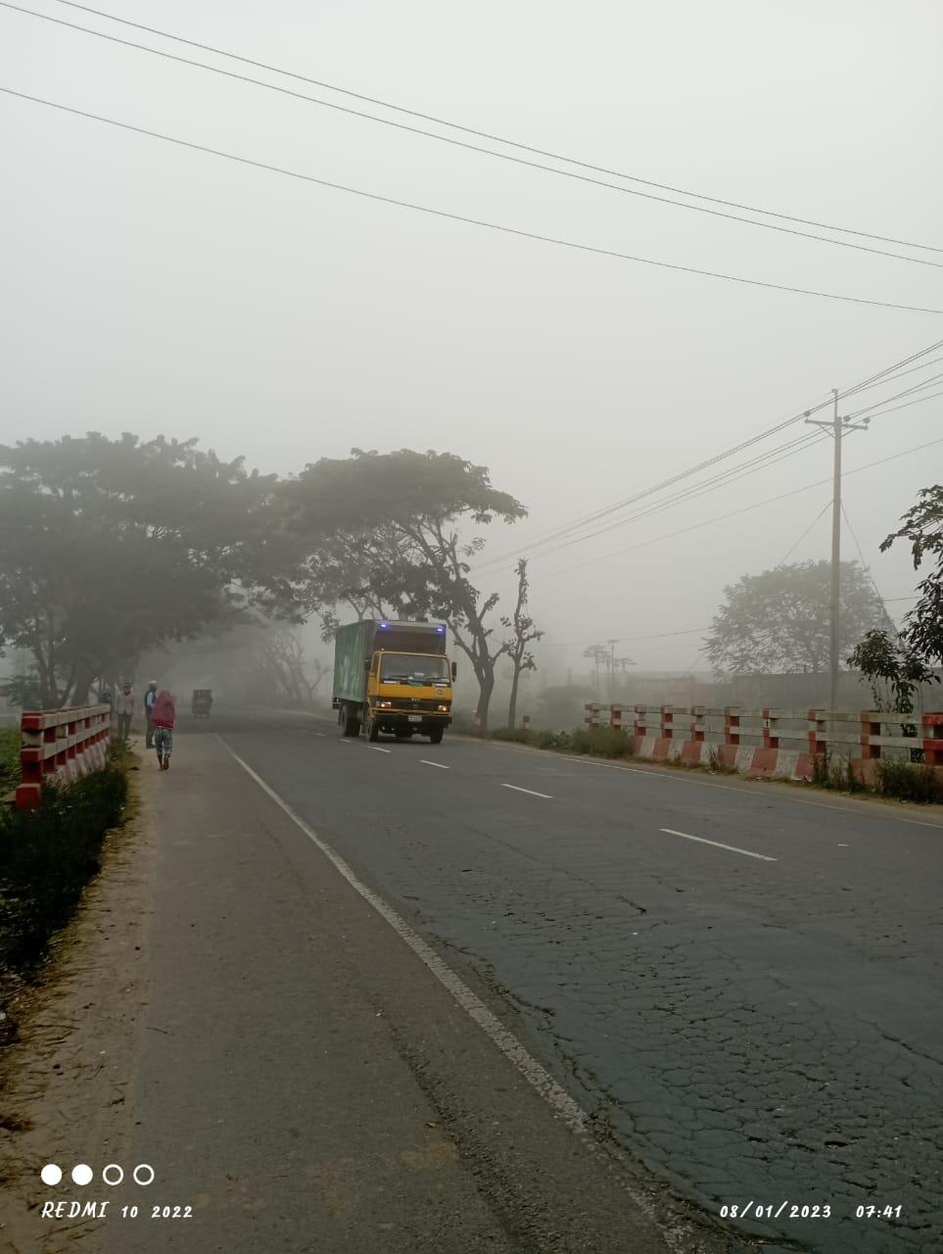Car: (188, 681, 217, 725)
Truck: (325, 619, 464, 742)
